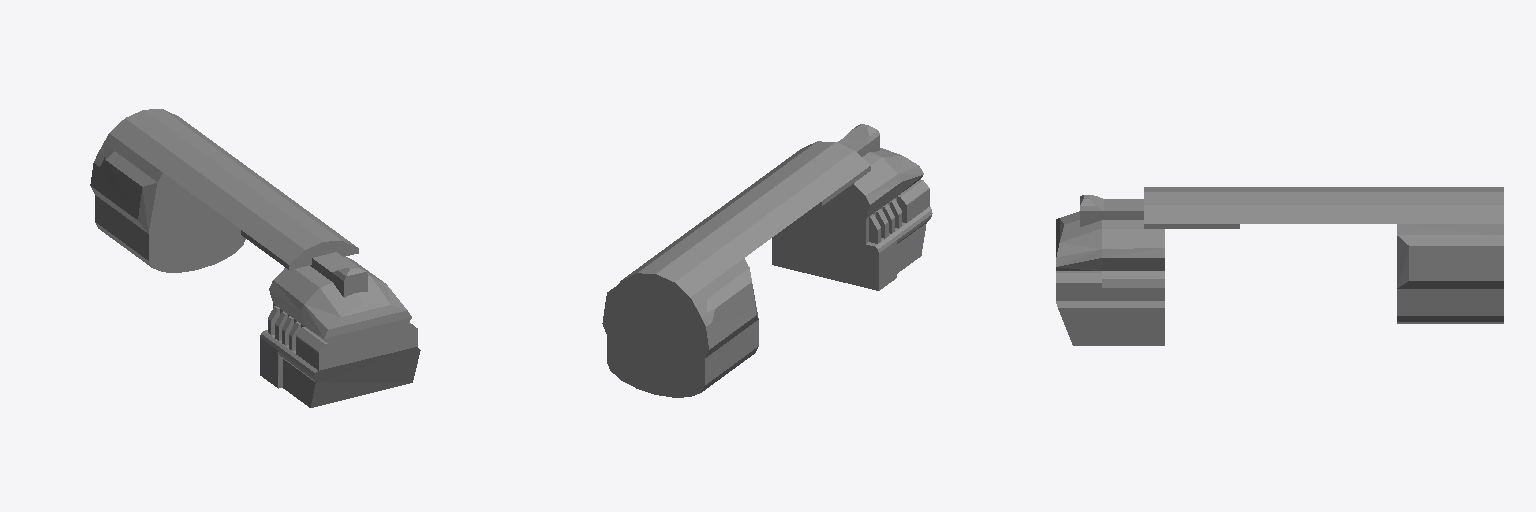
The model's file is body1.obj.
3 renders of one model, left to right at view 1: azimuth 30°, elevation 25°; view 2: azimuth 150°, elevation 25°; view 3: azimuth 270°, elevation 25°, orthographic.
Visible parts, largest first — view 1: body1; view 2: body1; view 3: body1.
Boxes of the visible parts, <box> form: body1: <box>90,109,420,407</box>; body1: <box>602,124,932,397</box>; body1: <box>1056,187,1503,345</box>.
Size of the model in its own units: 7.32 by 8.38 by 26.57.